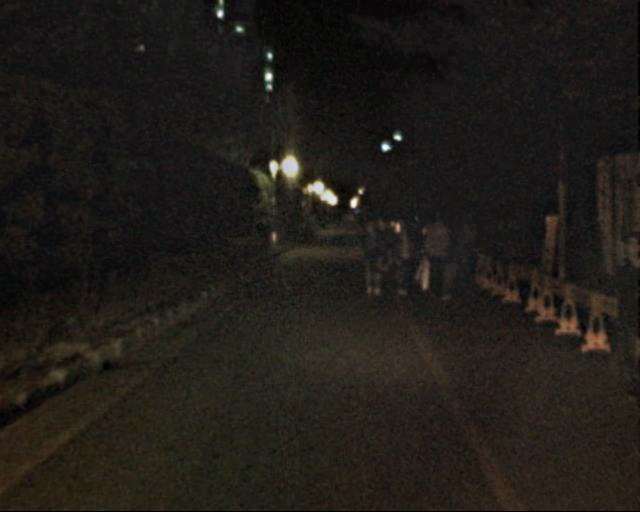person: (603, 237, 640, 403), (420, 219, 455, 304), (384, 214, 417, 294), (356, 220, 388, 298), (452, 217, 480, 286), (439, 227, 464, 288), (403, 223, 426, 279)
